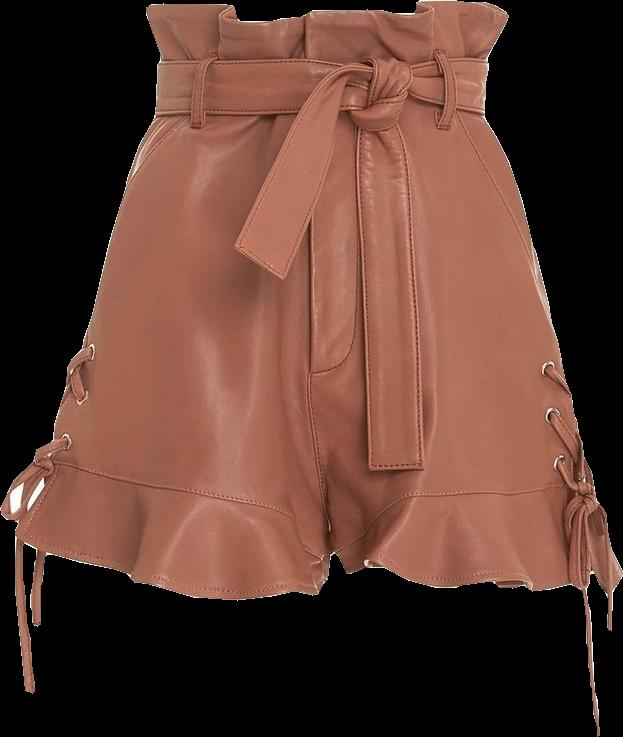Hemline: (0, 505, 336, 602), (337, 551, 622, 593)
Pantleg: (0, 4, 329, 599), (305, 1, 622, 590)
Waistline: (37, 450, 326, 559), (334, 473, 590, 554), (145, 0, 504, 27)
